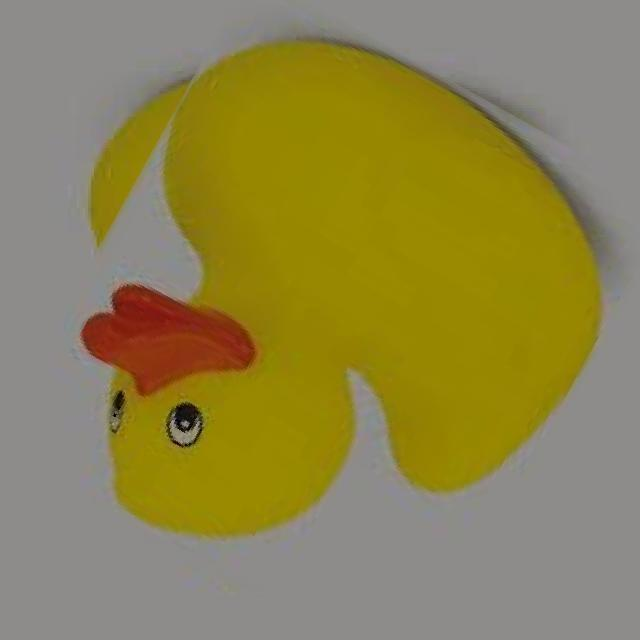rubber-duck: (82, 41, 599, 533)
